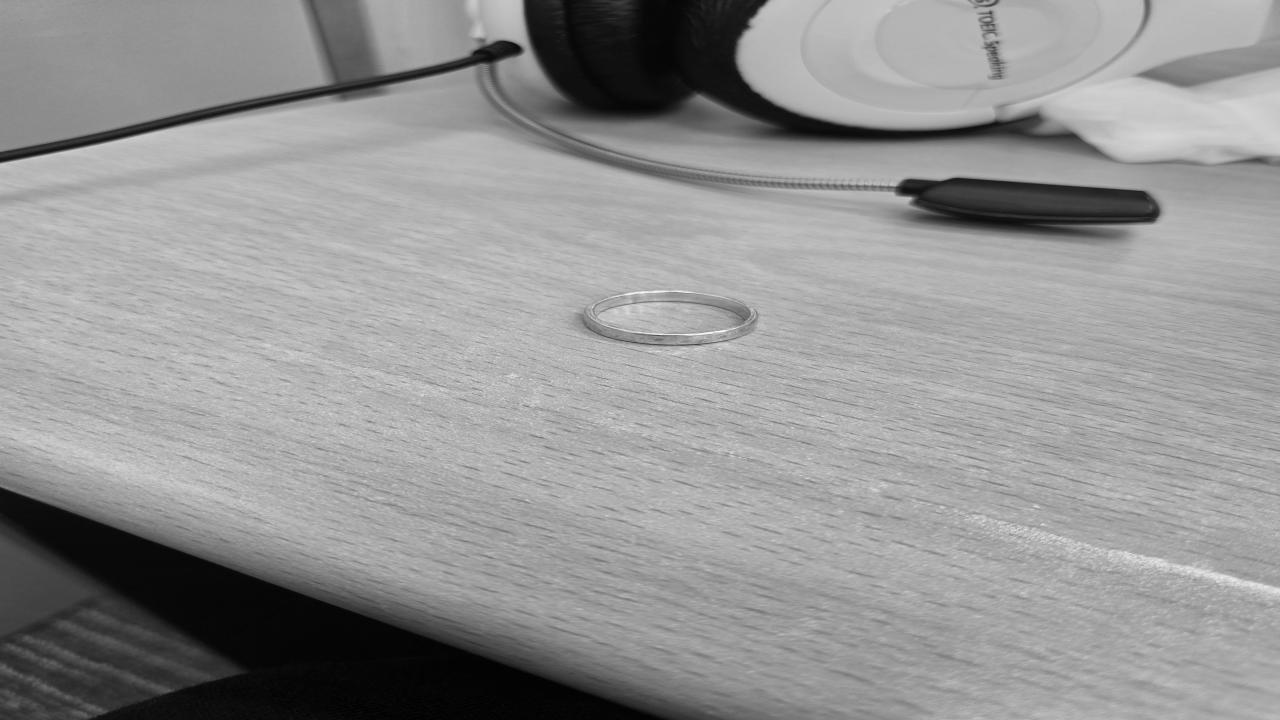ring: (584, 289, 764, 347)
